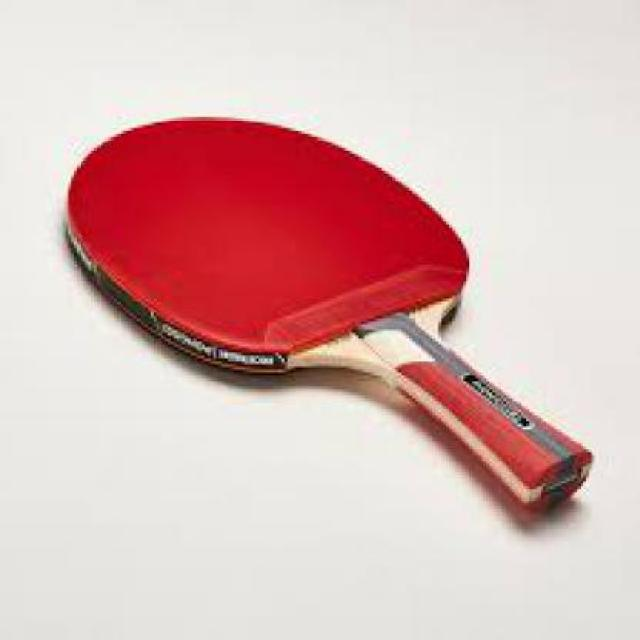table_tennis_racket: (62, 104, 487, 385)
